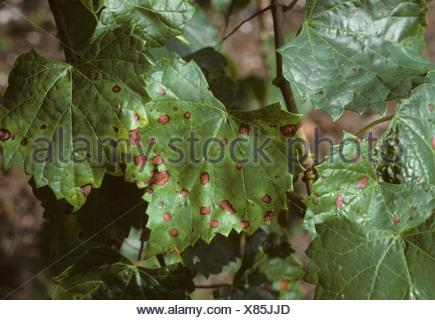grape leaf: (126, 62, 307, 272), (1, 32, 150, 205), (276, 1, 430, 117)
